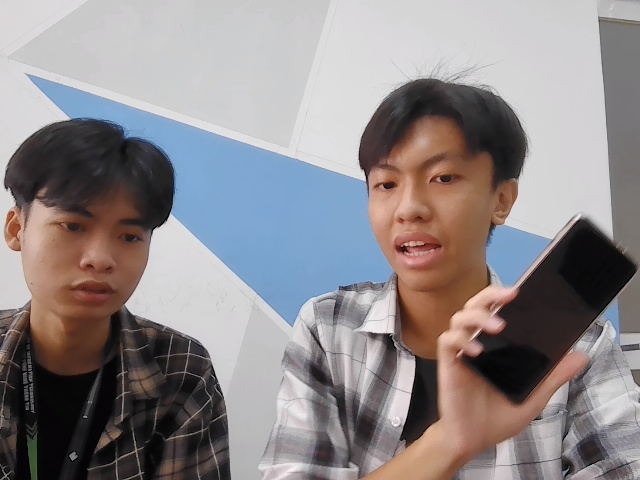human: (3, 116, 177, 331), (353, 82, 528, 279)
phone: (461, 206, 640, 407)
